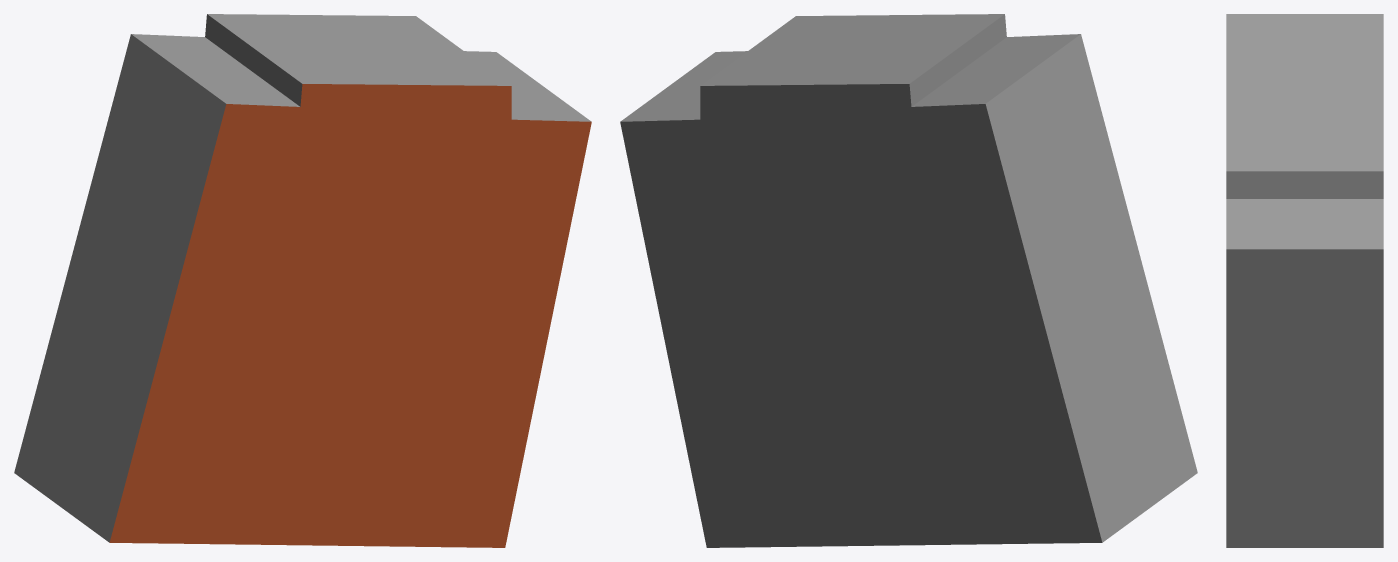
Rendered from construction_5131_assumed_A_Casa_h6m.obj.
3 views of the same model, side by side, from view 1: azimuth 30°, elevation 25°; view 2: azimuth 150°, elevation 25°; view 3: azimuth 270°, elevation 25° (orthographic). The views are drawn at different scales.
Parts seen in each view (by area): view 1: construction_5131_assumed_A_Casa; view 2: construction_5131_assumed_A_Casa; view 3: construction_5131_assumed_A_Casa.
Boxes of the visible parts, <box> form: construction_5131_assumed_A_Casa: <box>14,14,591,547</box>; construction_5131_assumed_A_Casa: <box>620,14,1197,547</box>; construction_5131_assumed_A_Casa: <box>1226,14,1383,547</box>.
Bounding box in the file's own units: 17.5 × 17.81 × 6.
